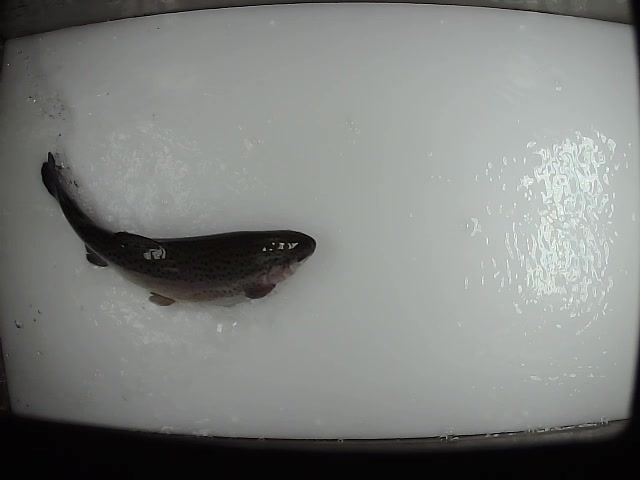fish: (39, 150, 317, 306)
